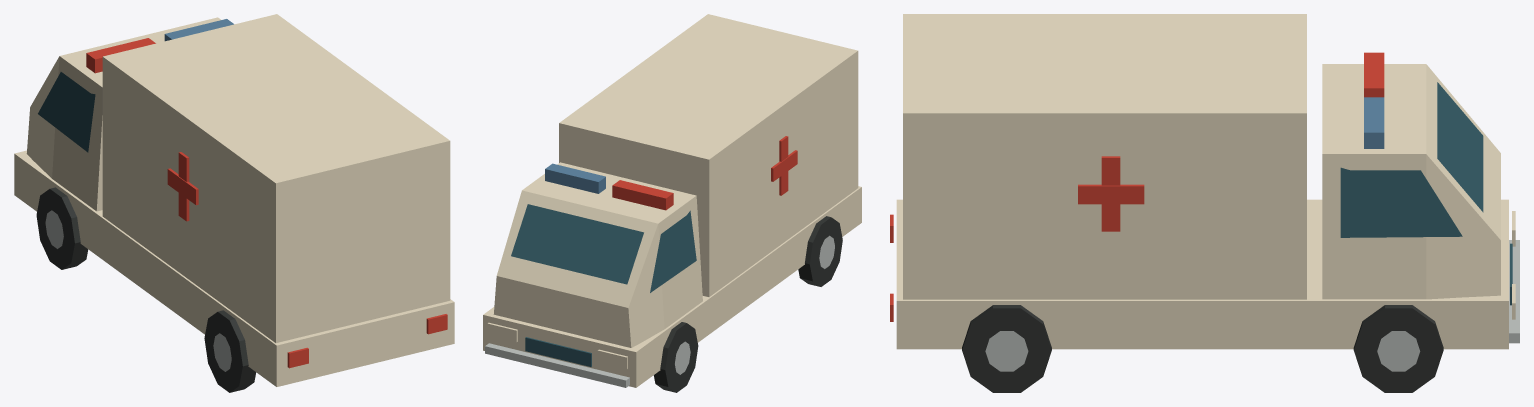
Rendered from ambulance.glb.
3 views of the same model, side by side, from view 1: azimuth 30°, elevation 25°; view 2: azimuth 150°, elevation 25°; view 3: azimuth 270°, elevation 25° (orthographic). The views are drawn at different scales.
Visible parts, largest first — view 1: AmbulanceModel traffic_cream, AmbulanceModel traffic_rubber, AmbulanceModel traffic_glass, AmbulanceModel traffic_red, AmbulanceModel traffic_metal, Emergency beacon.001; view 2: AmbulanceModel traffic_cream, AmbulanceModel traffic_glass, AmbulanceModel traffic_rubber, AmbulanceModel traffic_metal, AmbulanceModel traffic_red, Emergency beacon.001; view 3: AmbulanceModel traffic_cream, AmbulanceModel traffic_glass, AmbulanceModel traffic_rubber, AmbulanceModel traffic_red, AmbulanceModel traffic_metal, Emergency beacon.001.
Boxes of the visible parts, left/top/right/bottom form: AmbulanceModel traffic_cream: left=14, top=14, right=454, bottom=386; AmbulanceModel traffic_rubber: left=36, top=187, right=256, bottom=392; AmbulanceModel traffic_glass: left=38, top=72, right=95, bottom=152; AmbulanceModel traffic_red: left=86, top=38, right=447, bottom=368; AmbulanceModel traffic_metal: left=45, top=210, right=231, bottom=371; Emergency beacon.001: left=164, top=19, right=233, bottom=41; AmbulanceModel traffic_cream: left=483, top=14, right=861, bottom=387; AmbulanceModel traffic_glass: left=511, top=204, right=696, bottom=366; AmbulanceModel traffic_rubber: left=653, top=216, right=842, bottom=392; AmbulanceModel traffic_metal: left=485, top=235, right=834, bottom=387; AmbulanceModel traffic_red: left=612, top=136, right=797, bottom=210; Emergency beacon.001: left=545, top=163, right=605, bottom=193; AmbulanceModel traffic_cream: left=896, top=14, right=1515, bottom=349; AmbulanceModel traffic_glass: left=1340, top=82, right=1512, bottom=305; AmbulanceModel traffic_rubber: left=962, top=305, right=1443, bottom=392; AmbulanceModel traffic_red: left=890, top=52, right=1384, bottom=321; AmbulanceModel traffic_metal: left=985, top=240, right=1519, bottom=371; Emergency beacon.001: left=1364, top=97, right=1384, bottom=148.
Size of the model in its own units: 2.53 by 2.98 by 6.17.
